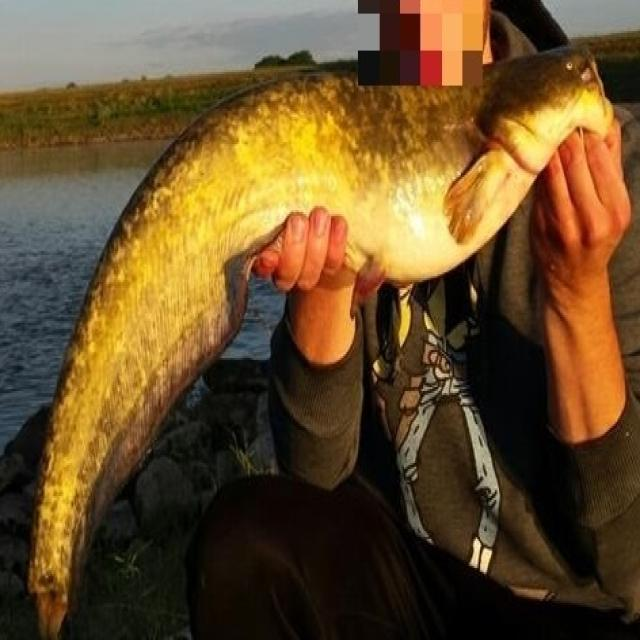Catfish: (15, 17, 615, 616)
